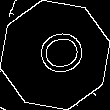O_W: (26, 28, 84, 82)
